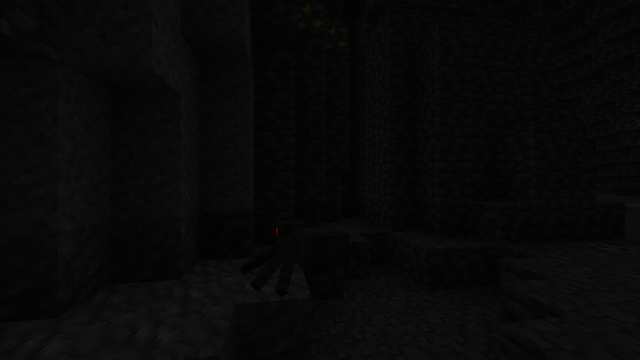araignees: (260, 214, 353, 291)
